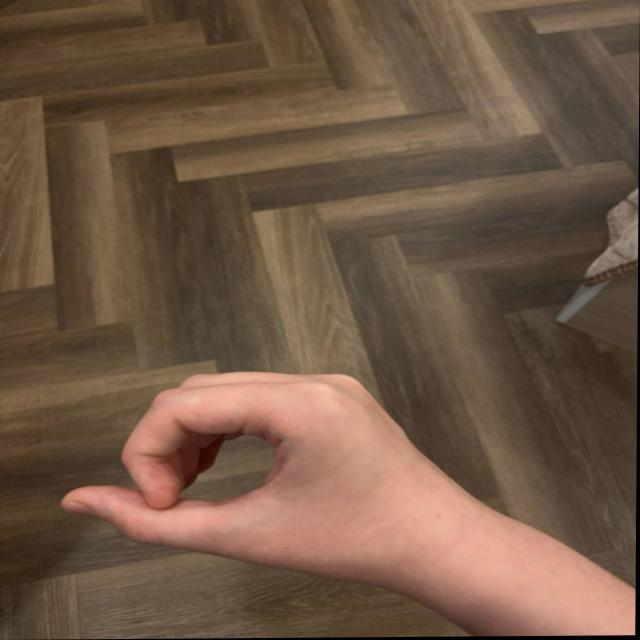e: (50, 356, 400, 582)
